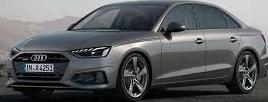Cars: (6, 1, 266, 100)
